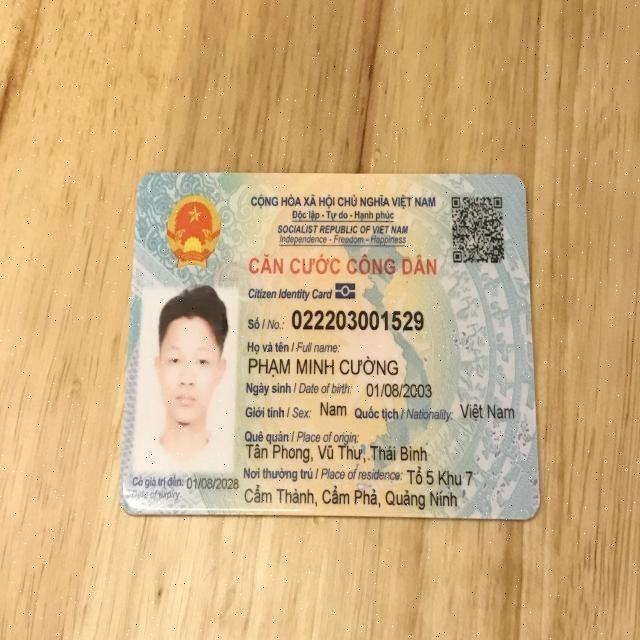current_place: (243, 483, 458, 510), (405, 466, 475, 487)
dob: (363, 377, 438, 404)
expire_date: (184, 474, 242, 490)
gender: (318, 395, 349, 421)
id: (287, 304, 425, 331)
name: (245, 350, 410, 378)
nationality: (457, 396, 517, 428)
origin_place: (248, 441, 429, 464)
